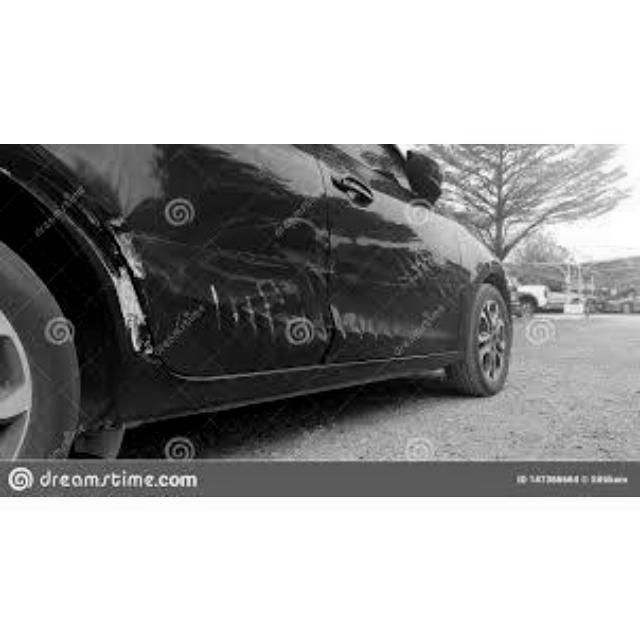doorouter-dent: (133, 150, 344, 393)
quaterpanel-dent: (0, 144, 150, 421)
